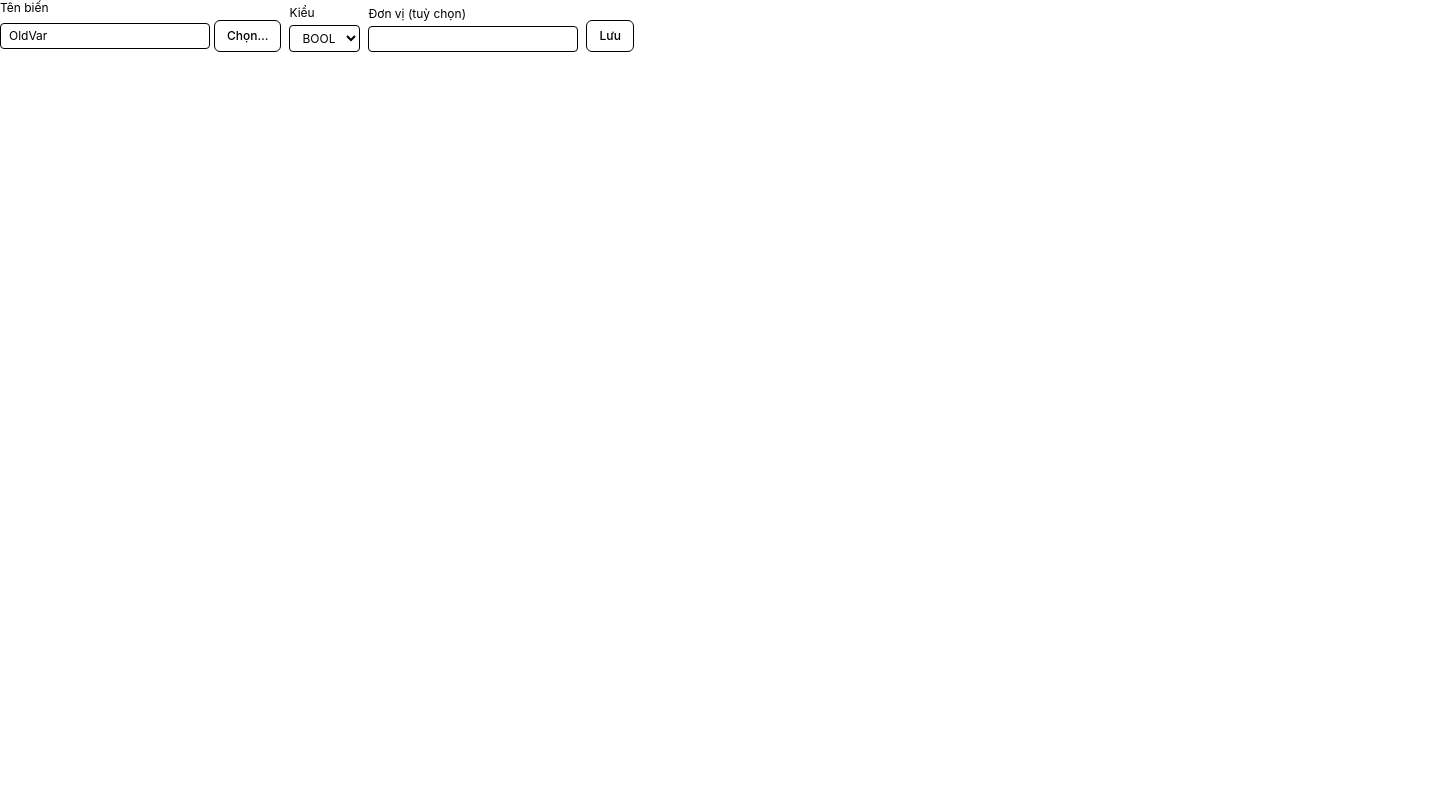
FbdNodeInspector › B-T6: Point thiếu unit => đơn vị hiện "không xác định được", không hiện chuỗi rỗng
What coordinates should you click on to do the following:
click the button "Chọn…"
I would click on:
 (248, 36)
Its box is x1=214 y1=20 x2=281 y2=52.
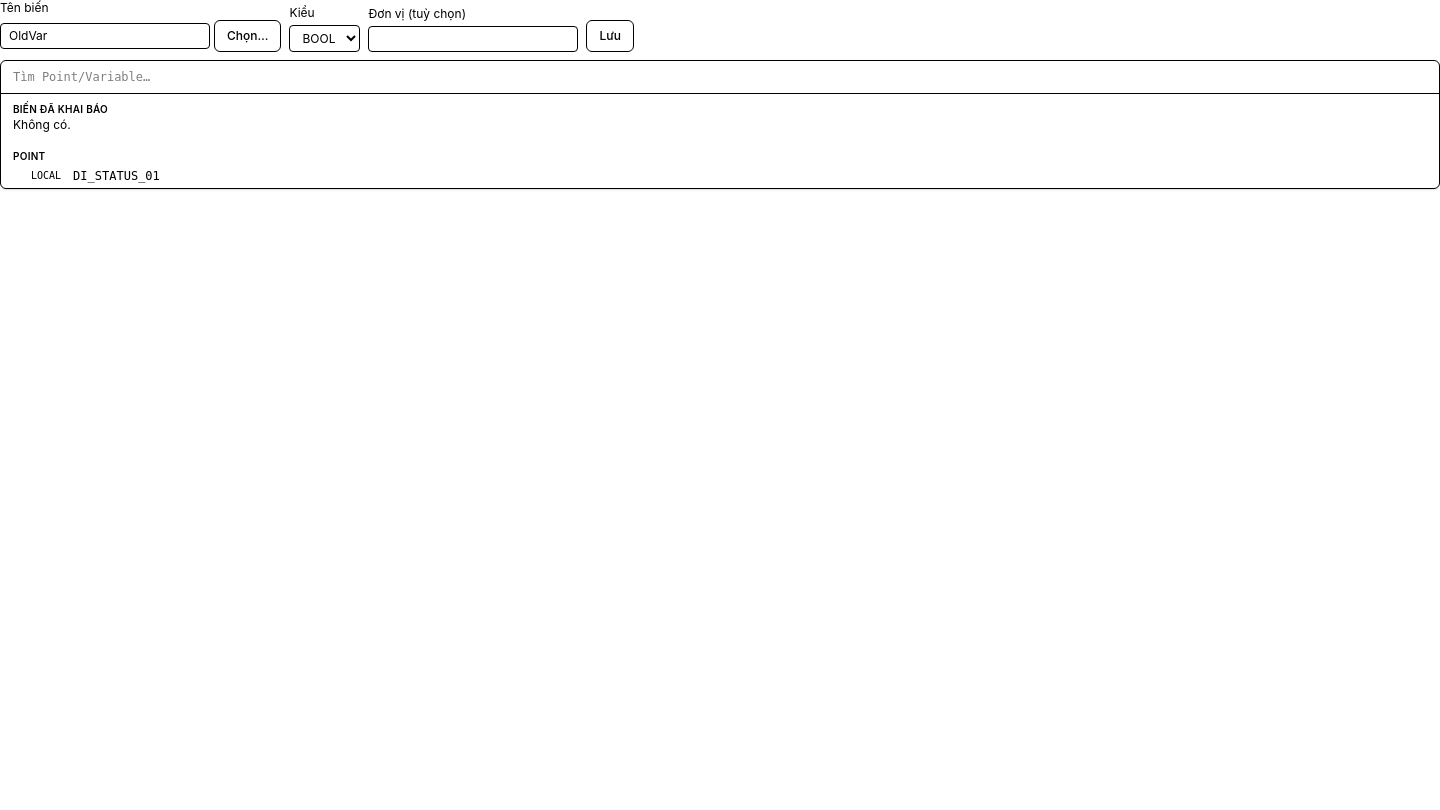
What coordinates should you click on to do the following:
click the button "LOCAL DI_STATUS_01"
I would click on:
 (46, 176)
Its box is x1=1 y1=164 x2=1439 y2=188.
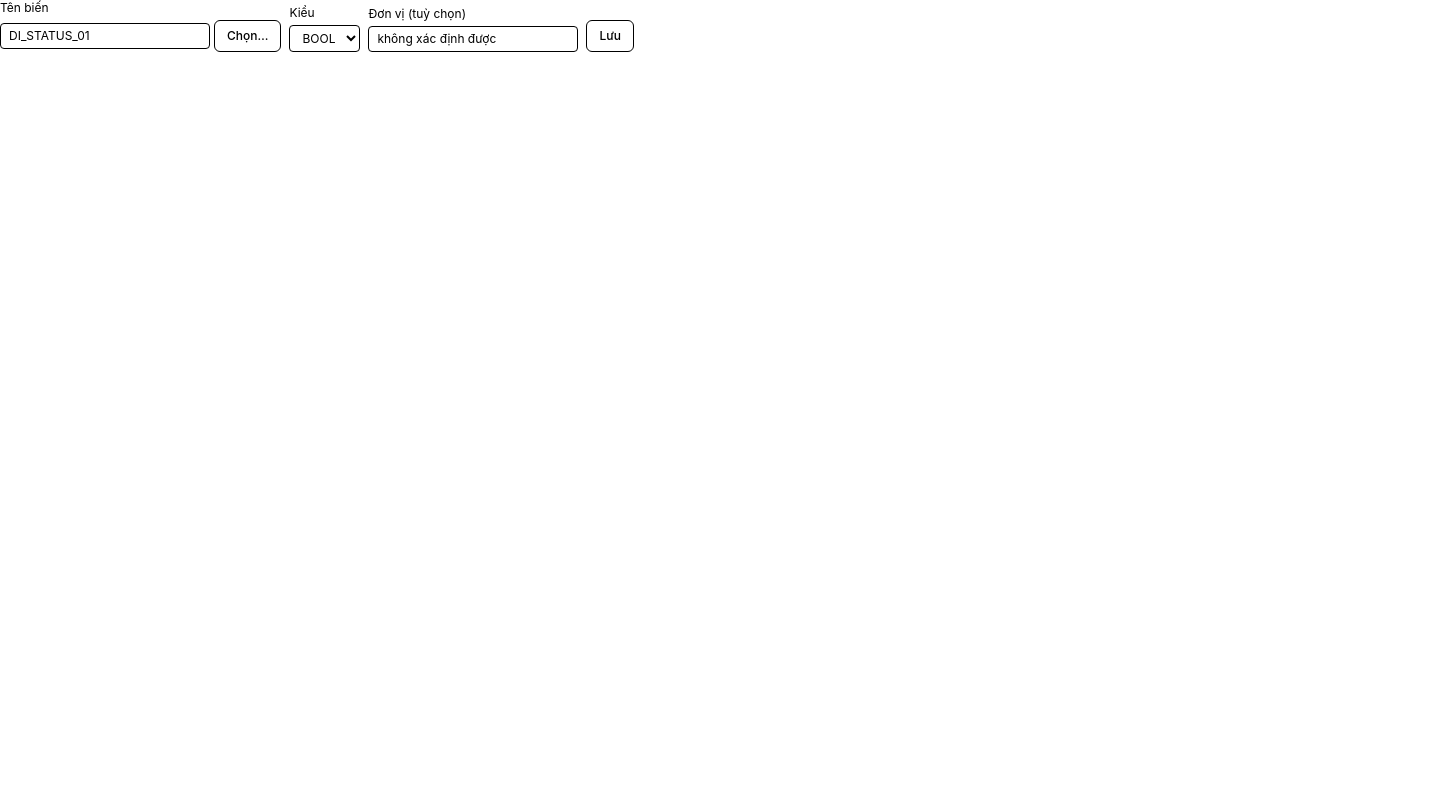
Check: the field labelled "Đơn vị (tuỳ chọn)" holds "không xác định được", box x1=368 y1=26 x2=578 y2=52
